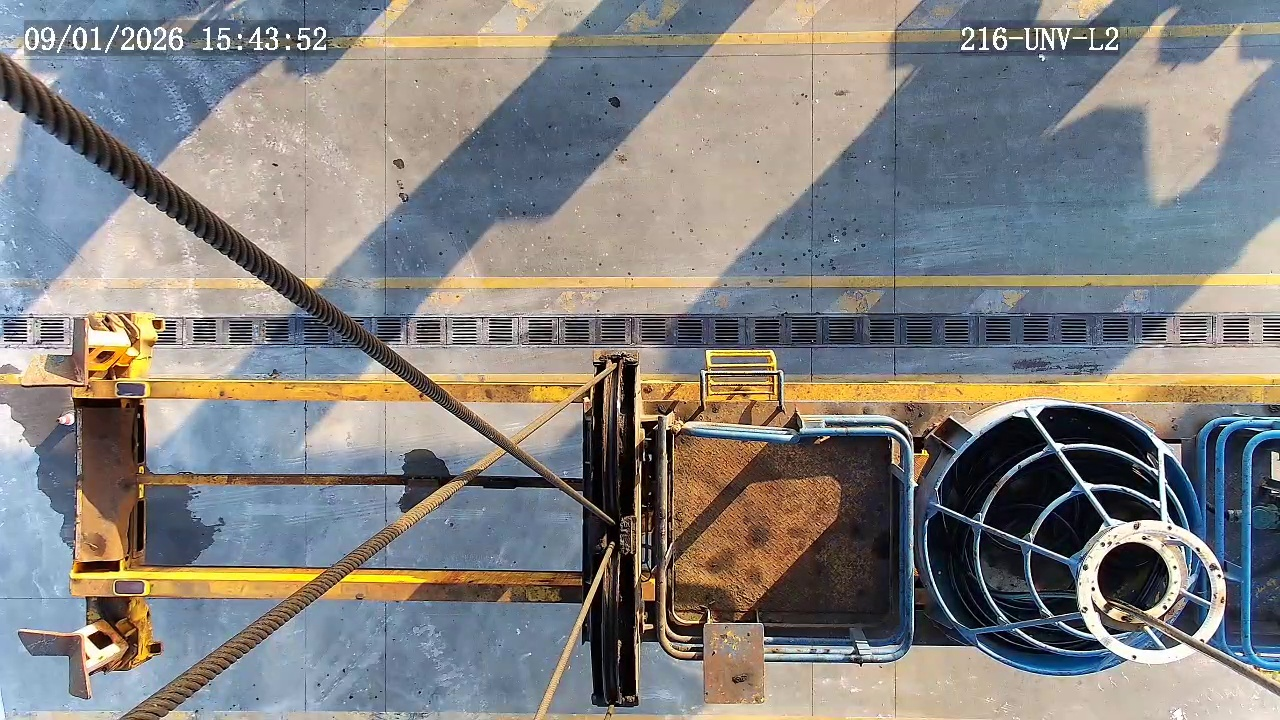left: (924, 404, 1204, 675)
